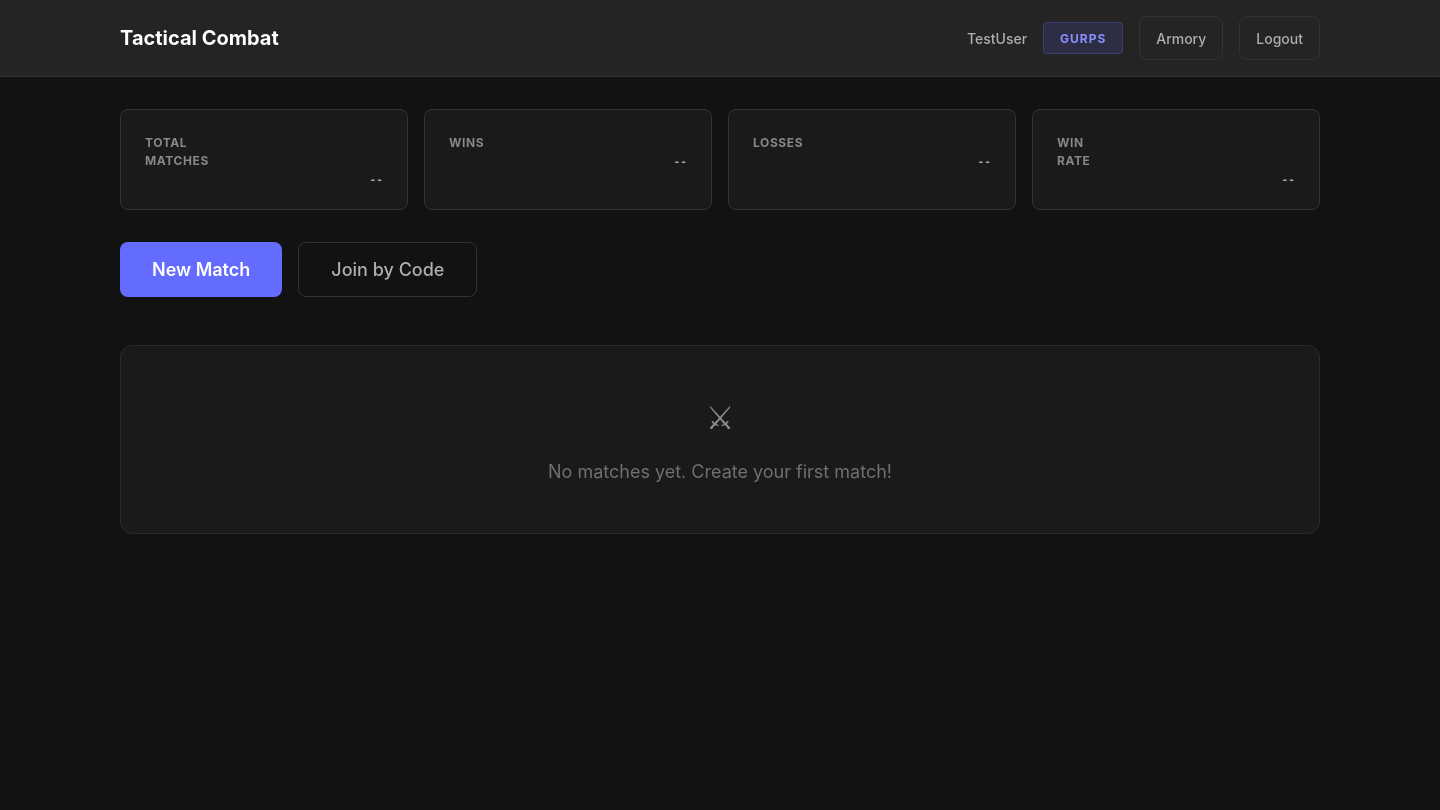
Test: Dashboard › clicking New Match opens CreateMatchDialog
The image size is (1440, 810).
Click the button "New Match": (201, 270) [120,242,282,297]
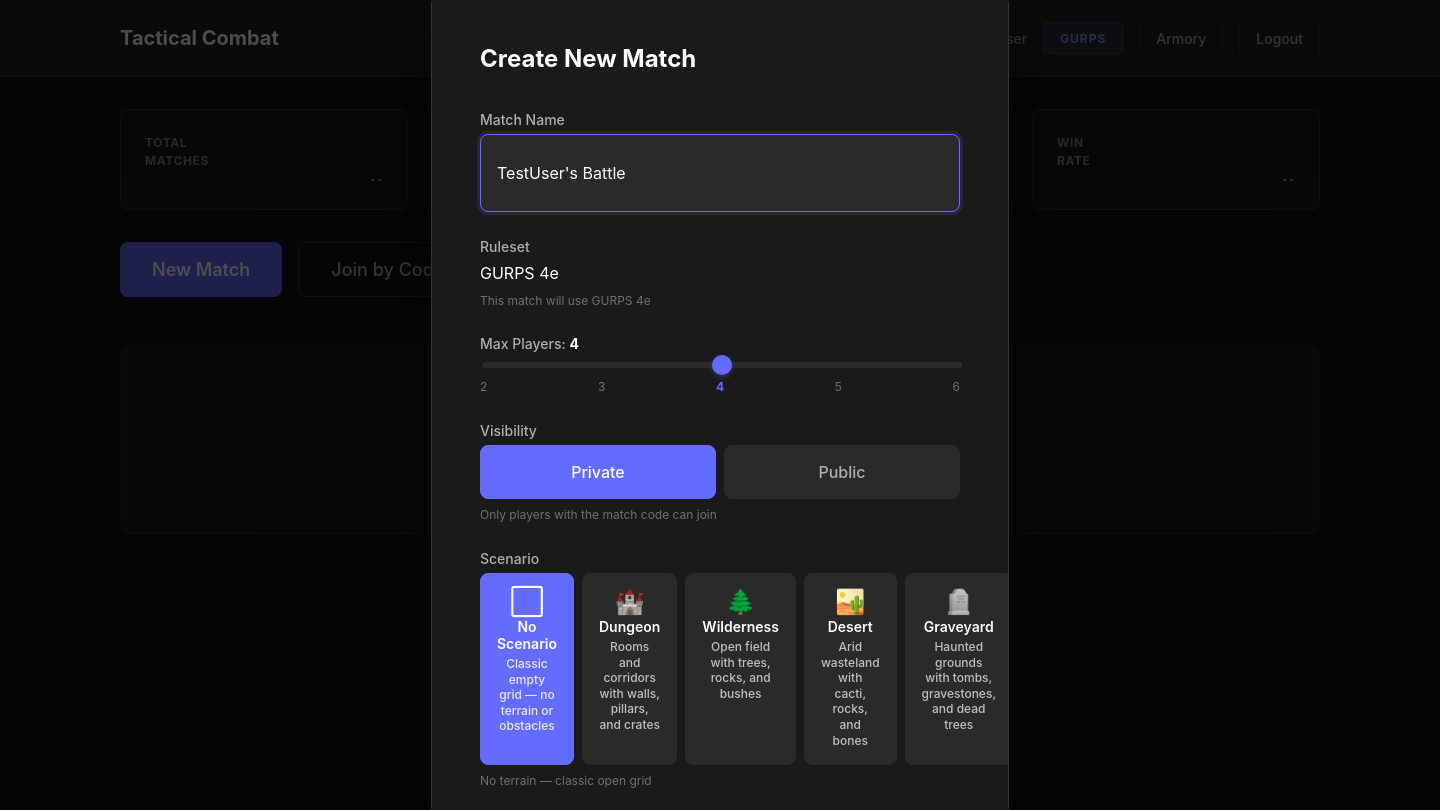
Now the heading "Create New Match" is shown, box [480,44,696,72]
